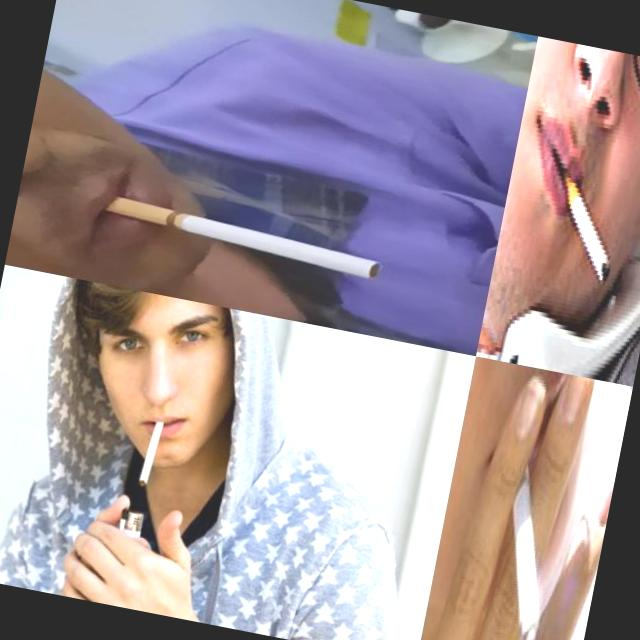smoke: (106, 194, 388, 281), (479, 437, 573, 640), (545, 174, 626, 286), (138, 418, 164, 488)
